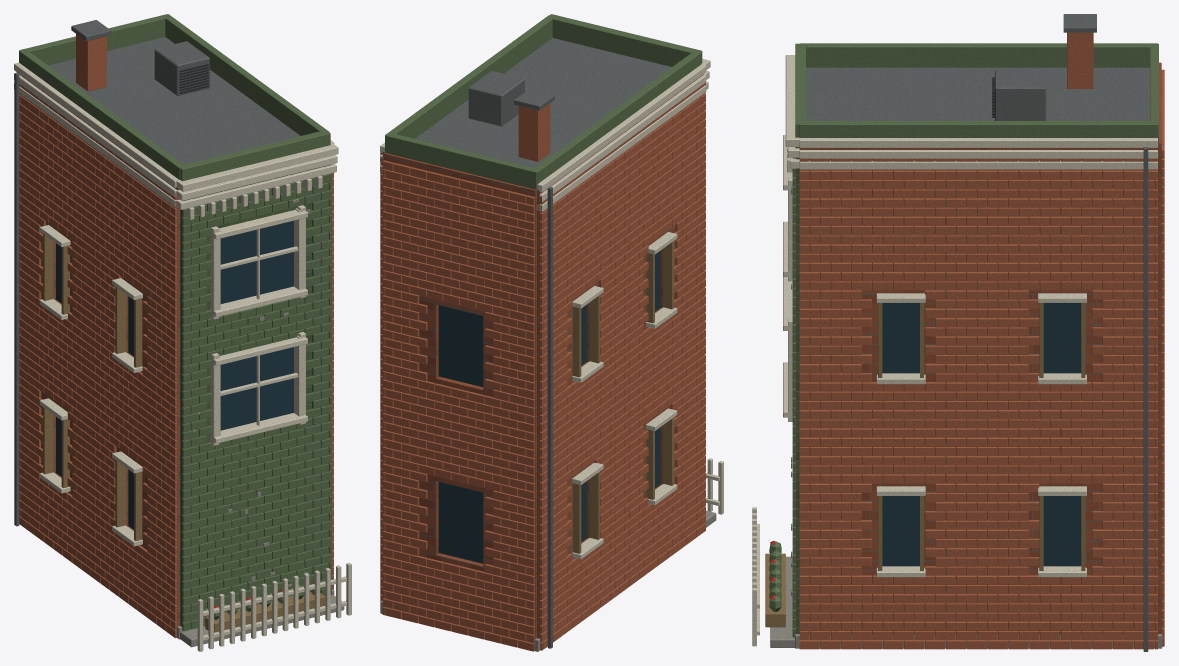
Rendered from VICT26_lod0.glb.
The picture shows the model from 3 angles, left to right: view 1: azimuth 30°, elevation 25°; view 2: azimuth 150°, elevation 25°; view 3: azimuth 270°, elevation 25°; orthographic projection. The views are drawn at different scales.
Visible parts, largest first — view 1: VICT26_LOD0; view 2: VICT26_LOD0; view 3: VICT26_LOD0.
Boxes of the visible parts, left/top/right/bottom form: VICT26_LOD0: left=14, top=14, right=351, bottom=651; VICT26_LOD0: left=380, top=14, right=723, bottom=651; VICT26_LOD0: left=752, top=14, right=1164, bottom=651.
Size of the model in its own units: 3.71 by 10.45 by 6.9.
16 materials, 14 textured.
